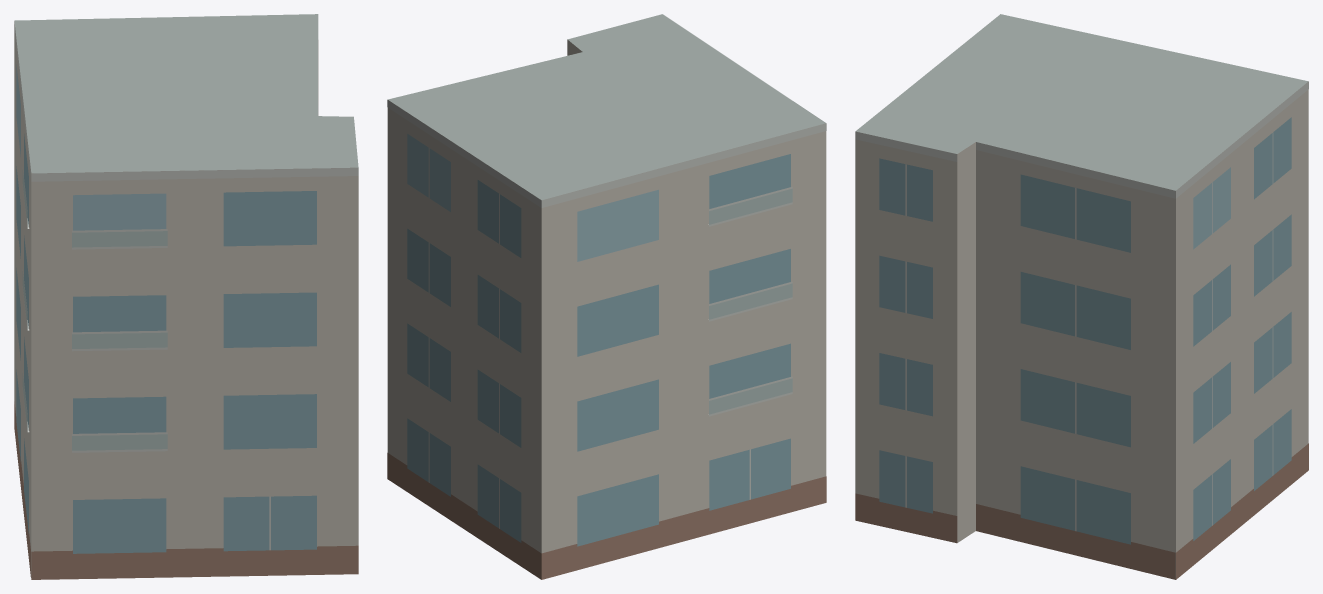
File: survey-upis-32728722.glb
3 renders of one model, left to right at view 1: azimuth 30°, elevation 25°; view 2: azimuth 150°, elevation 25°; view 3: azimuth 270°, elevation 25°, orthographic. The views are drawn at different scales.
Visible parts, largest first — view 1: survey-upis-32728722.tmp; view 2: survey-upis-32728722.tmp; view 3: survey-upis-32728722.tmp.
Boxes of the visible parts, x1,y1,x2,y2 form: survey-upis-32728722.tmp: (14, 14, 358, 579); survey-upis-32728722.tmp: (387, 14, 826, 579); survey-upis-32728722.tmp: (855, 14, 1308, 579).
Bounding box in the file's own units: 11.61 × 11.9 × 12.58.
